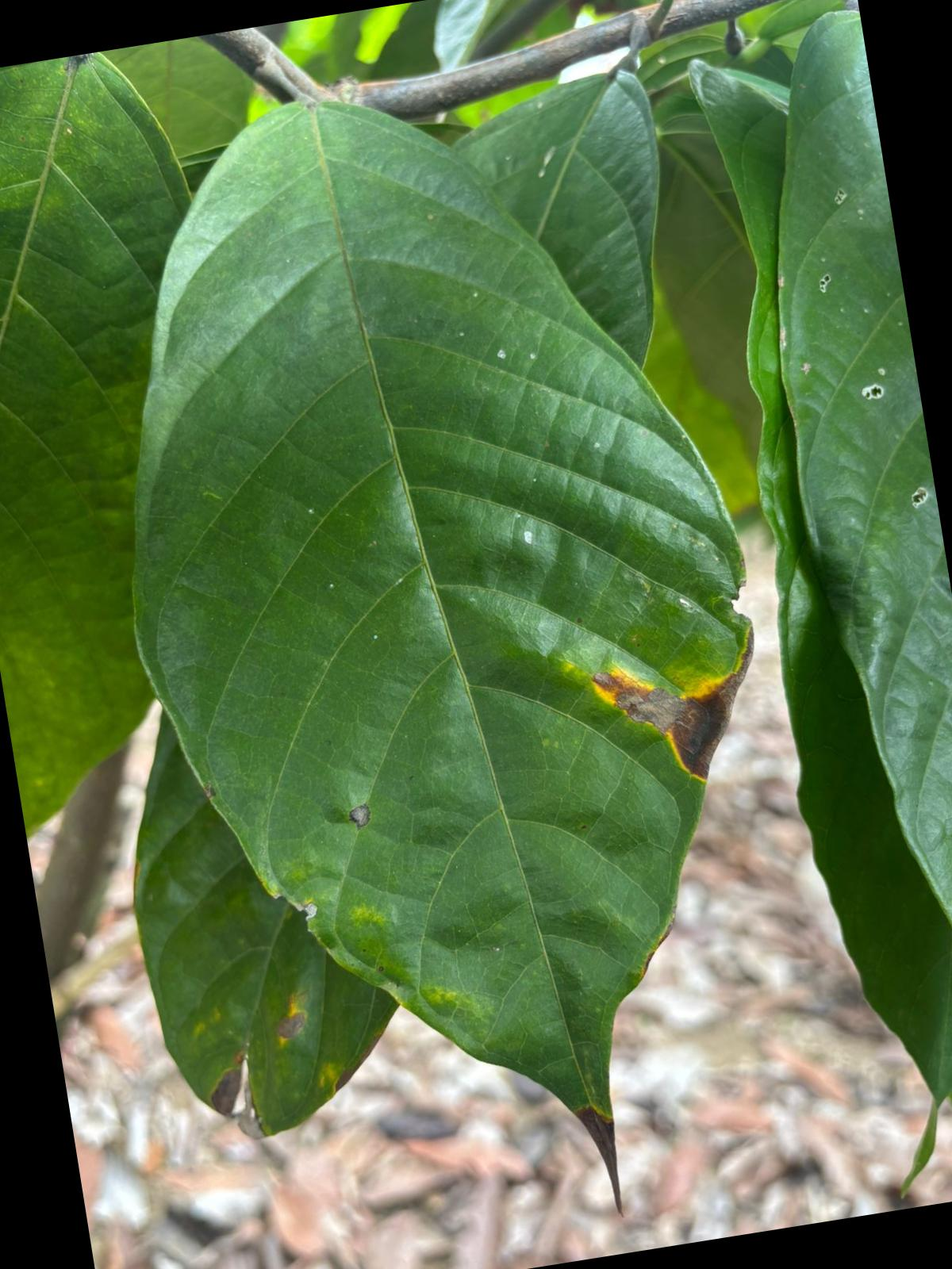Potasio: (134, 102, 751, 1184)
